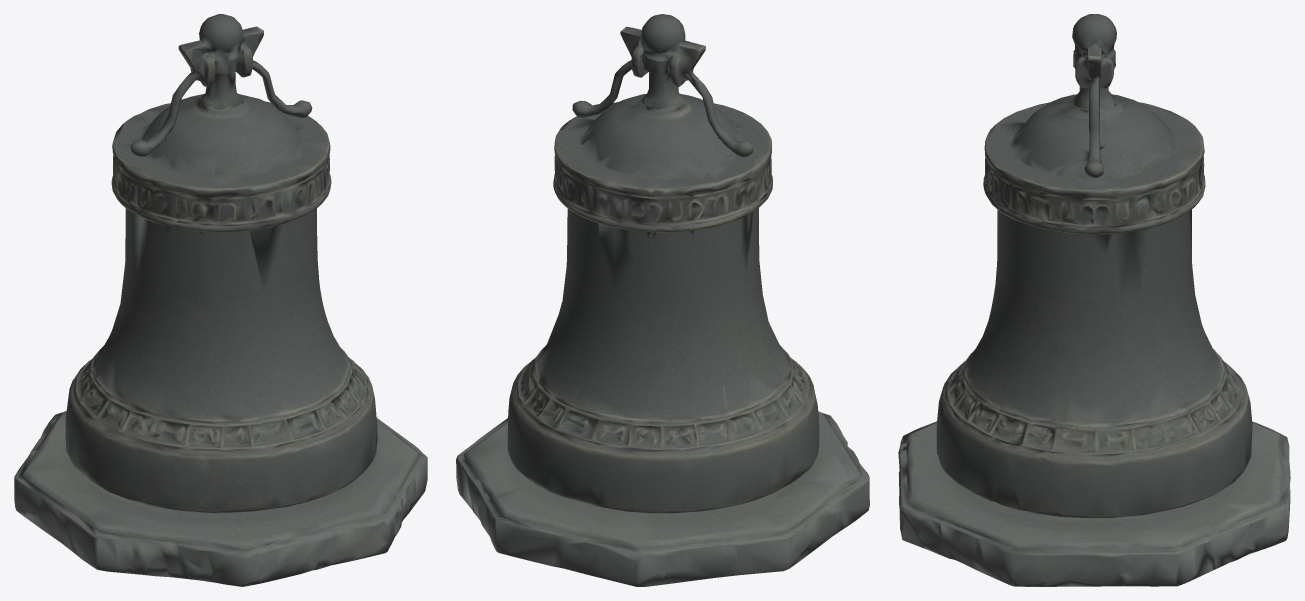
The model's file is ritual-bell-0f9625ce0bad.glb.
3 renders of one model, left to right at view 1: azimuth 30°, elevation 25°; view 2: azimuth 150°, elevation 25°; view 3: azimuth 270°, elevation 25°, orthographic.
Size of the model in its own units: 1.38 by 1.9 by 1.38.
Materials: 1 (1 with a texture image).
